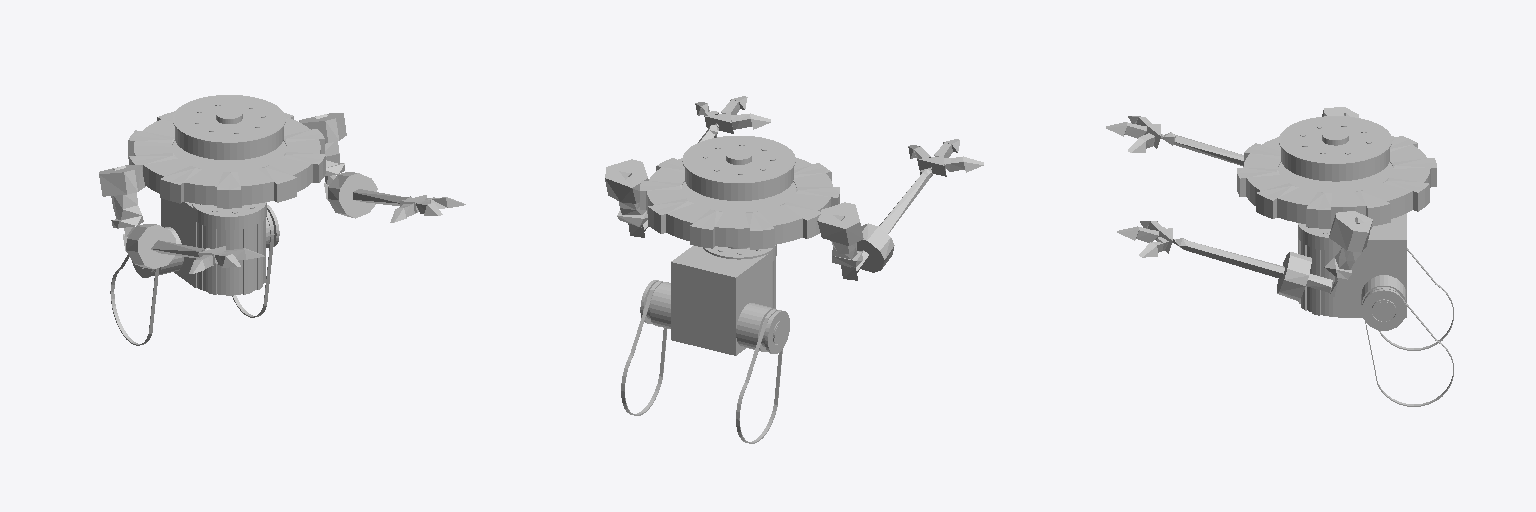
File: RobotRece_000015.obj
3 renders of one model, left to right at view 1: azimuth 30°, elevation 25°; view 2: azimuth 150°, elevation 25°; view 3: azimuth 270°, elevation 25°, orthographic.
Visible parts, largest first — view 1: Cylinder.007, Cube_Cube.003; view 2: Cylinder.007, Cube_Cube.003; view 3: Cylinder.007, Cube_Cube.003.
Boxes of the visible parts, x1=… form: Cylinder.007: x1=110, y1=95, x2=325, y2=345; Cube_Cube.003: x1=99, y1=113, x2=465, y2=273; Cylinder.007: x1=621, y1=136, x2=839, y2=443; Cube_Cube.003: x1=605, y1=96, x2=983, y2=280; Cylinder.007: x1=1237, y1=116, x2=1453, y2=406; Cube_Cube.003: x1=1106, y1=107, x2=1372, y2=300.
Size of the model in its own units: 4.59 by 3.78 by 4.9.